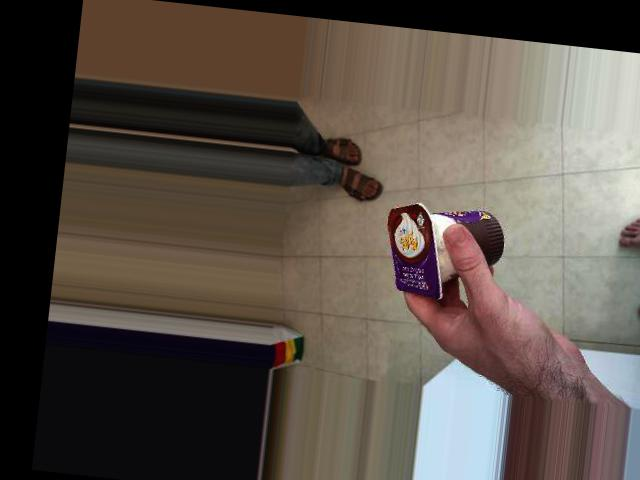milky: (370, 164, 473, 290)
